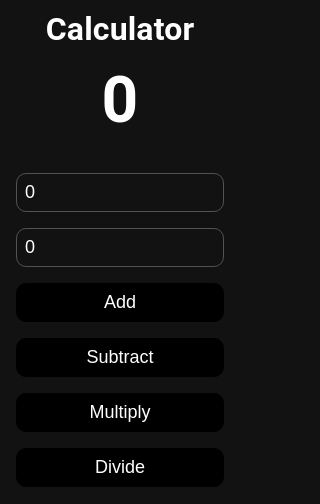
Test: Calculator › adds numbers
Note: check if adds properly
Step 1. Replace the text in the number field with test id "num1" with "5" → (120, 192), box [16,173,224,212]
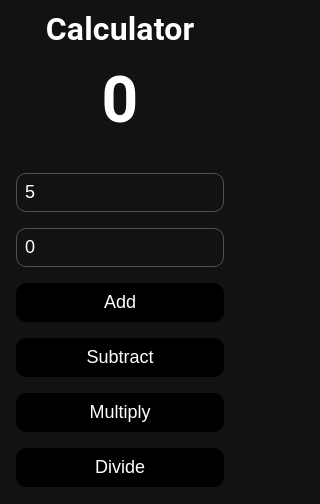
Step 2. Replace the text in the number field with test id "num2" with "8" → (120, 248), box [16,228,224,267]
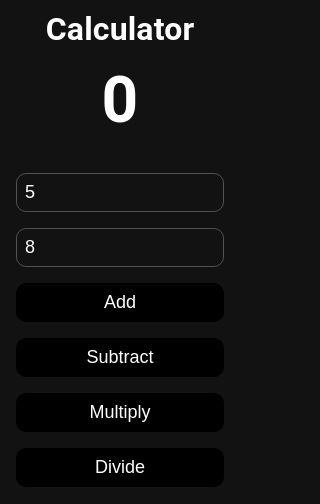
Step 3. Click the button with test id "add" → (120, 302), box [16,283,224,322]
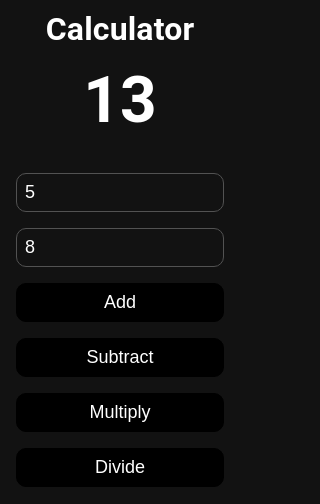
Result: the text with test id "result" reads "13" at [83,63,157,138]
